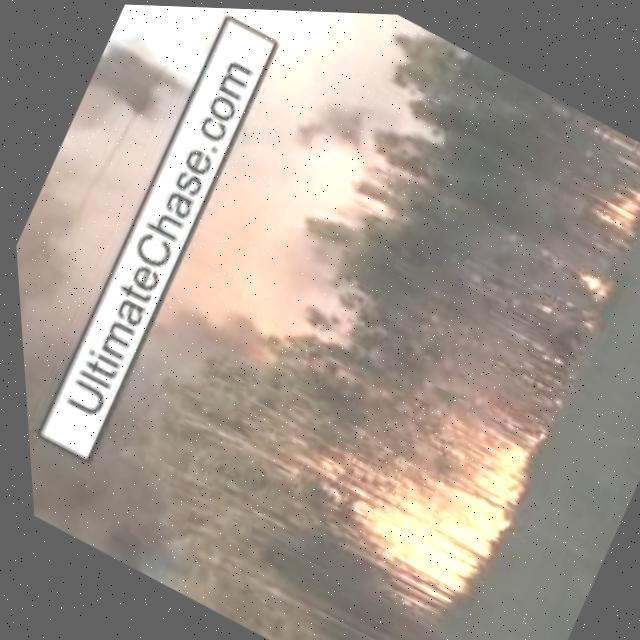Fire: (317, 367, 545, 618), (580, 168, 640, 240), (567, 265, 609, 301)
